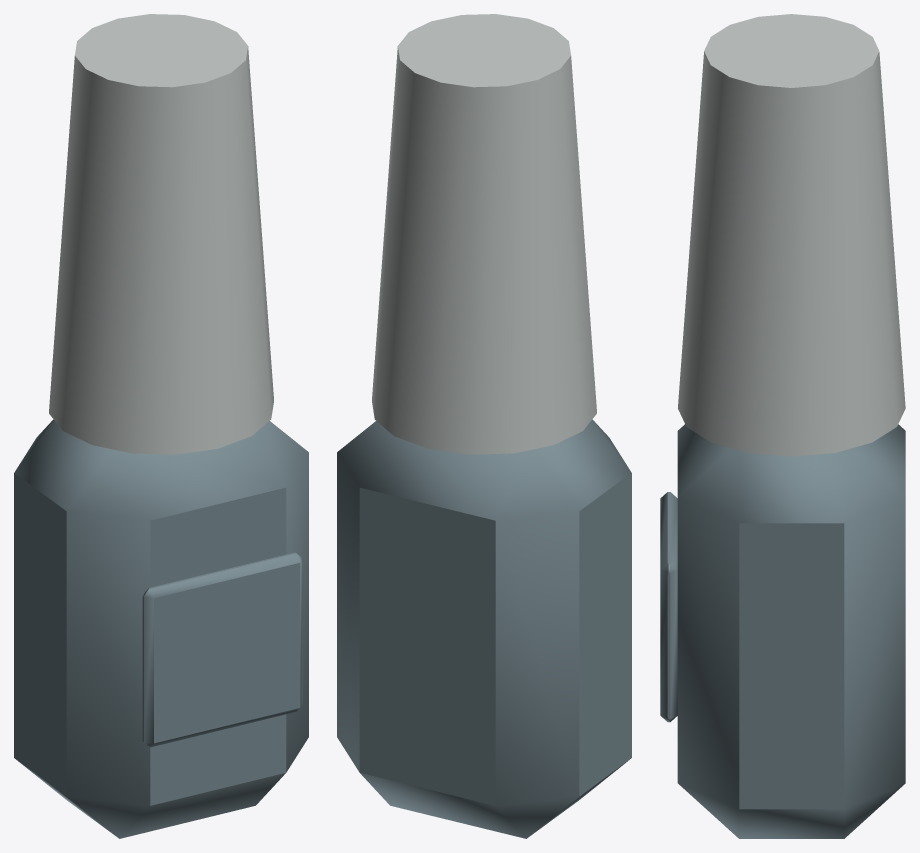
Rendered from nail-polish.glb.
The picture shows the model from 3 angles, left to right: view 1: azimuth 30°, elevation 25°; view 2: azimuth 150°, elevation 25°; view 3: azimuth 270°, elevation 25°; orthographic projection.
Visible parts, largest first — view 1: tapered_cap, glass_bottle, label; view 2: glass_bottle, tapered_cap; view 3: glass_bottle, tapered_cap, label.
Boxes of the visible parts, x1=… form: tapered_cap: x1=49, y1=14, x2=273, y2=454; glass_bottle: x1=14, y1=419, x2=308, y2=838; label: x1=142, y1=552, x2=302, y2=747; glass_bottle: x1=337, y1=419, x2=631, y2=838; tapered_cap: x1=372, y1=14, x2=596, y2=454; glass_bottle: x1=677, y1=424, x2=905, y2=838; tapered_cap: x1=678, y1=14, x2=905, y2=456; label: x1=660, y1=492, x2=677, y2=722.
Size of the model in its own units: 0.032 by 0.095 by 0.028.
